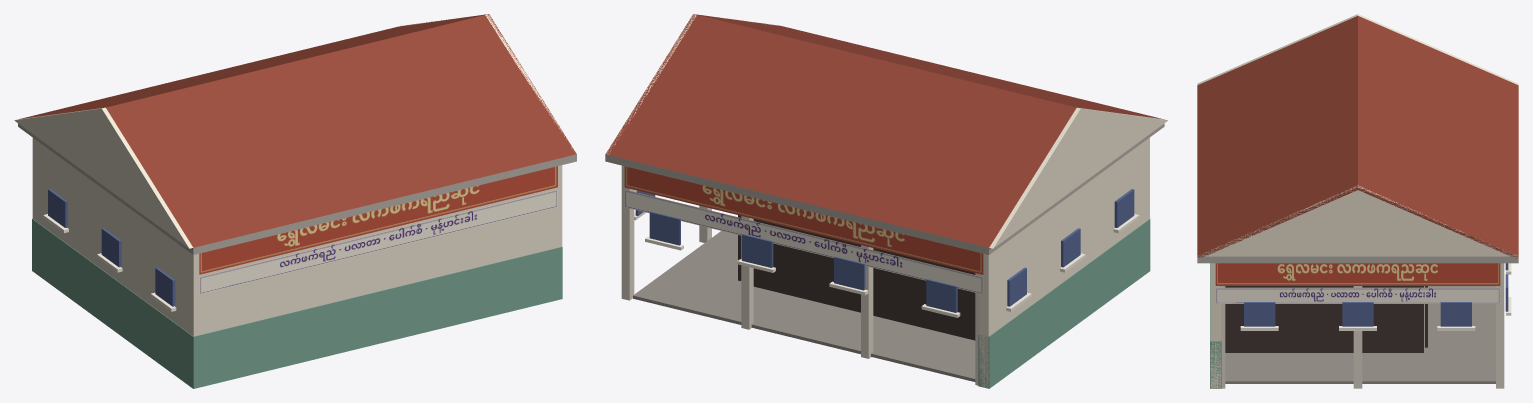
Rendered from teashop.glb.
3 renders of one model, left to right at view 1: azimuth 30°, elevation 25°; view 2: azimuth 150°, elevation 25°; view 3: azimuth 270°, elevation 25°, orthographic. The views are drawn at different scales.
Visible parts, largest first — view 1: roof, south-green, south, west, west-green, gables, sign-tea-name--y, sign-tea-menu--y, slab, win-x11.6, win-x01.6, win-x21.6; view 2: roof, floor, west, west-green, dim1, gables, sign-tea-name-+y, sign-tea-menu-+y, slab, col-n3.6, col-n-1.2, win+y31.6 (+8 smaller); view 3: roof, gables, floor, dim2, sign-tea-name-+x, sign-tea-menu-+x, slab, south, col-n3.6, win+x01.6, win+x11.6, win+x21.6 (+3 smaller).
Boxes of the visible parts, x1,y1,x2,y2 form: roof: (19,14,576,248); south-green: (193,246,562,388); south: (188,165,562,336); west: (32,138,203,331); west-green: (32,219,193,388); gables: (14,14,574,248); sign-tea-name--y: (199,166,557,274); sign-tea-menu--y: (199,189,557,294); slab: (18,123,576,254); win-x11.6: (101,228,121,267); win-x01.6: (155,267,175,306); win-x21.6: (48,189,67,227); roof: (605,14,1163,249); floor: (633,231,975,381); west: (979,142,1143,388); west-green: (978,219,1150,388); dim1: (753,219,975,340); gables: (606,14,1167,248); sign-tea-name-+y: (624,166,983,274); sign-tea-menu-+y: (624,189,983,294); slab: (605,123,1164,254); col-n3.6: (621,165,634,300); col-n-1.2: (861,245,873,358); win+y31.6: (649,211,680,245); roof: (1197,16,1518,258); gables: (1197,14,1518,256); floor: (1225,286,1495,383); dim2: (1225,286,1423,352); sign-tea-name-+x: (1215,263,1500,285); sign-tea-menu-+x: (1215,287,1500,303); slab: (1197,256,1518,263); south: (1210,263,1220,388); col-n3.6: (1496,263,1504,388); win+x01.6: (1244,302,1275,326); win+x11.6: (1342,302,1373,326); win+x21.6: (1440,302,1471,326).
Size of the model in its own units: 7.78 by 4.3 by 6.1.
11 materials, 2 textured.
